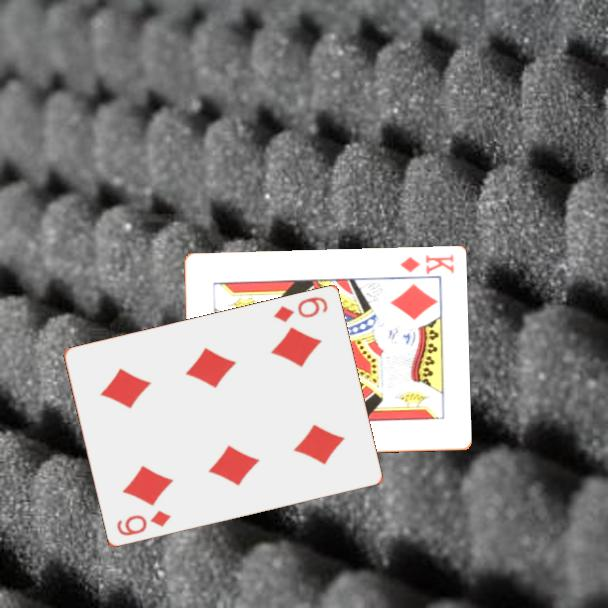d06: (113, 507, 173, 539), (270, 294, 330, 326)
d13: (397, 251, 457, 277)
